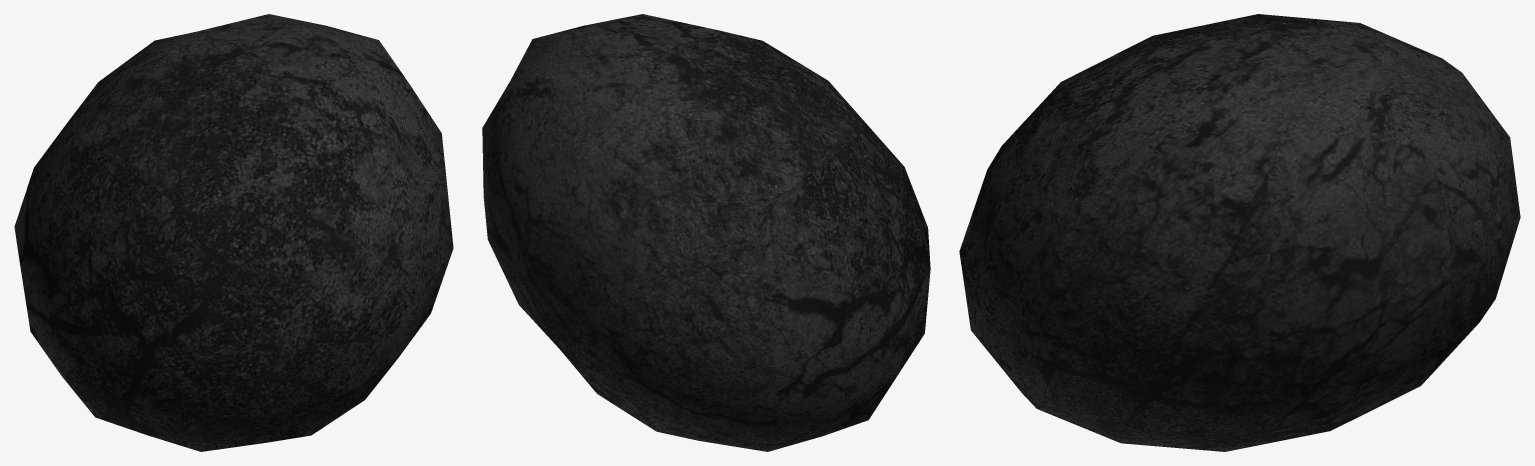
Rendered from boulder.fbx.
3 renders of one model, left to right at view 1: azimuth 30°, elevation 25°; view 2: azimuth 150°, elevation 25°; view 3: azimuth 270°, elevation 25°, orthographic. The views are drawn at different scales.
Visible parts, largest first — view 1: boulder; view 2: boulder; view 3: boulder.
Boxes of the visible parts, <box> form: boulder: <box>14,14,453,451</box>; boulder: <box>482,14,930,451</box>; boulder: <box>959,14,1520,451</box>.
Size of the model in its own units: 11.7 by 10.82 by 12.58.
1 material, 1 textured.
